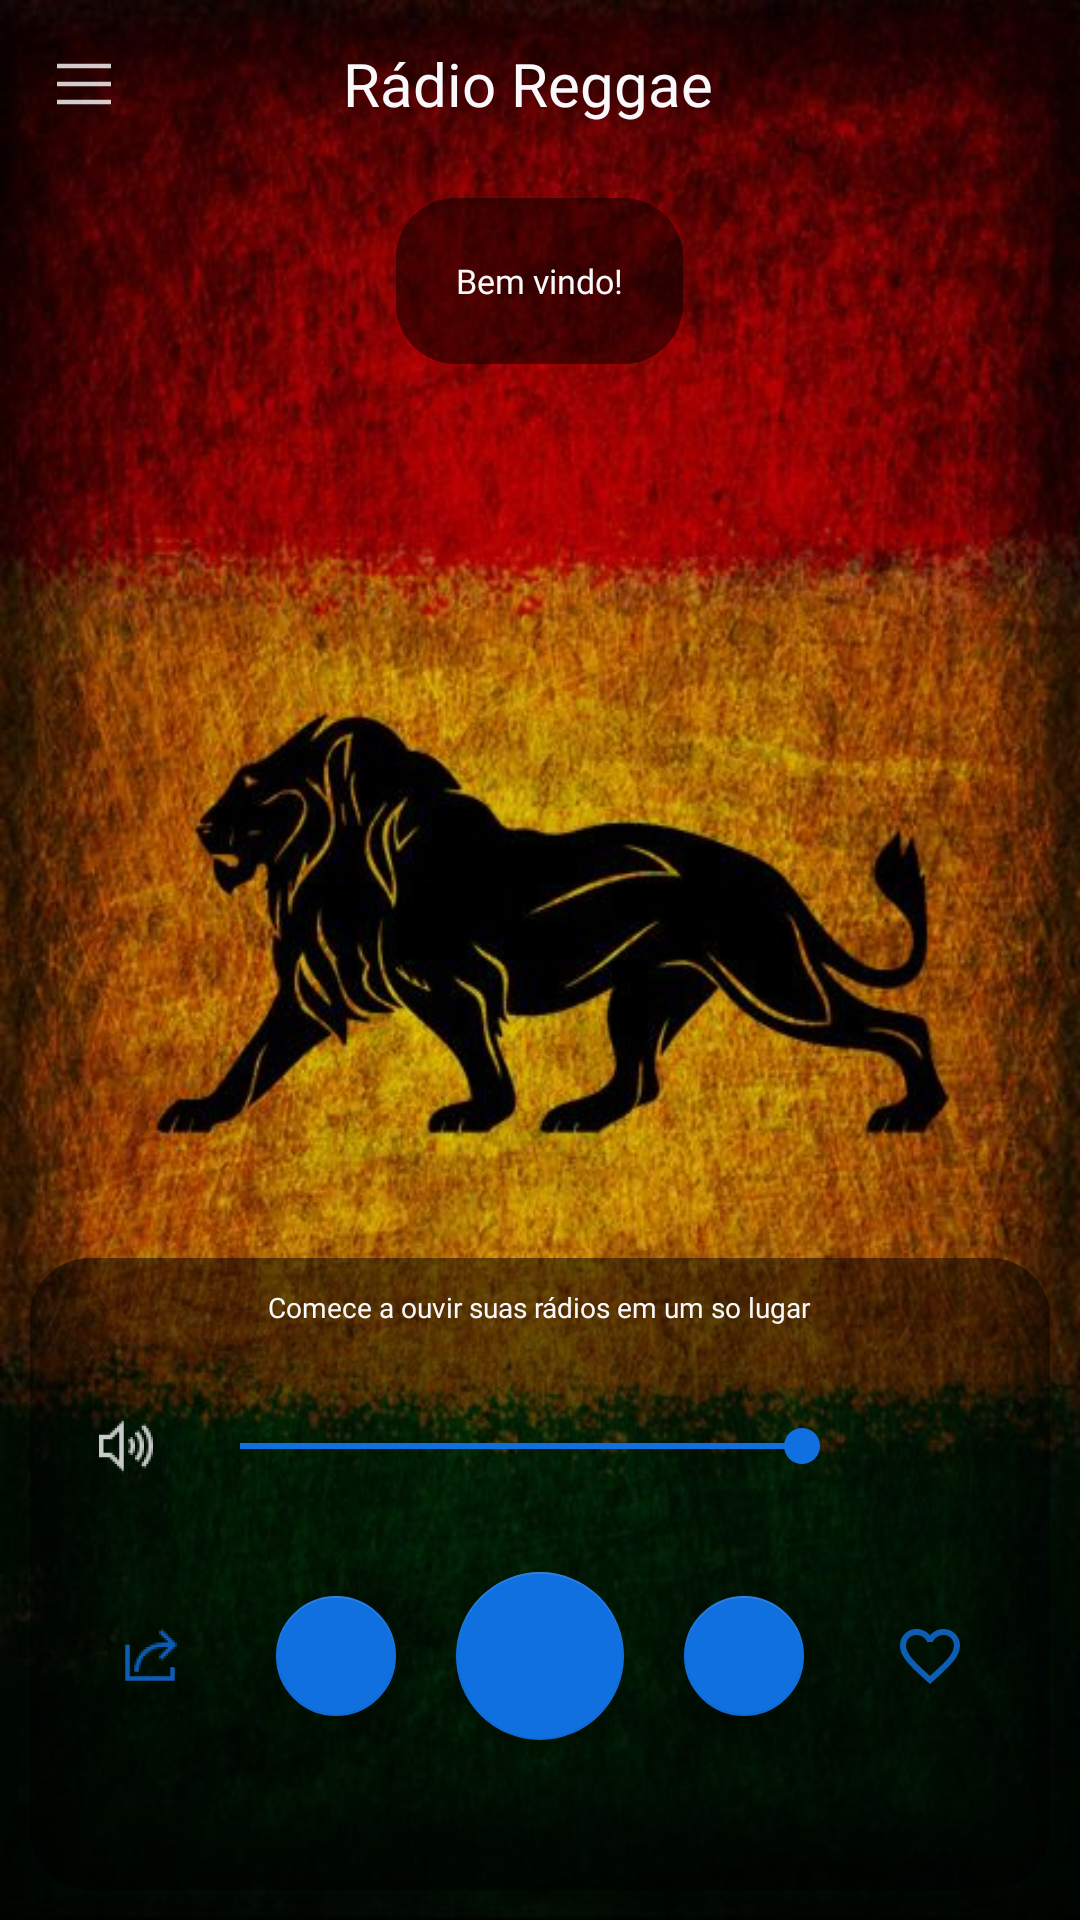

Icon click points for this 1080 x 1920 phone screenshot, format [x,y]:
share: [151,1655]
valume max: [122,1441]
